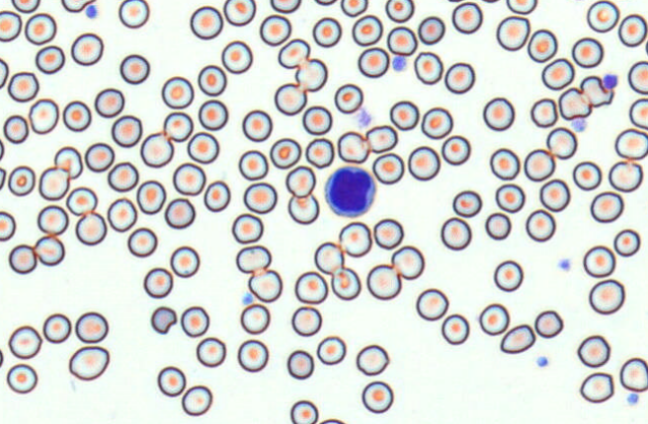LYM: (325, 163, 380, 218)
PLT: (391, 54, 409, 74), (571, 116, 589, 132), (603, 72, 619, 88), (85, 5, 101, 20), (627, 392, 641, 406), (559, 258, 572, 273), (537, 355, 550, 368)
RBC: (68, 345, 109, 381), (366, 263, 401, 300), (588, 279, 625, 314), (338, 221, 372, 257), (496, 15, 530, 50), (294, 270, 328, 304), (8, 325, 42, 359), (189, 5, 223, 39), (247, 269, 282, 302), (608, 159, 643, 192), (140, 132, 173, 167), (407, 145, 440, 180), (391, 245, 424, 279), (482, 96, 514, 131), (28, 98, 59, 134), (415, 288, 448, 321), (541, 57, 574, 90), (172, 162, 205, 195), (161, 76, 194, 109), (420, 106, 453, 139), (70, 32, 103, 65), (614, 127, 647, 160), (577, 334, 610, 367), (243, 181, 277, 213), (295, 57, 327, 91), (75, 211, 107, 245), (74, 311, 108, 343), (590, 191, 624, 223), (106, 197, 137, 232), (579, 372, 614, 403), (274, 82, 306, 115), (337, 130, 369, 163), (361, 380, 393, 413), (24, 12, 56, 45), (523, 148, 555, 181), (586, 0, 619, 32), (38, 166, 69, 200), (355, 344, 389, 375), (330, 266, 361, 300), (539, 178, 570, 212), (440, 216, 471, 250), (136, 179, 166, 214), (235, 244, 271, 273), (583, 245, 615, 277), (372, 152, 404, 184), (259, 14, 291, 46), (187, 131, 219, 163), (269, 137, 301, 169), (571, 36, 603, 68), (221, 40, 252, 73), (489, 147, 520, 180), (111, 114, 142, 147), (451, 1, 482, 34), (546, 126, 577, 159), (237, 339, 268, 372), (525, 208, 555, 242), (617, 13, 647, 47), (527, 28, 557, 62), (181, 384, 212, 416), (7, 71, 39, 102), (164, 197, 195, 229), (36, 204, 68, 235), (357, 47, 389, 78), (444, 62, 475, 94), (478, 303, 509, 335), (351, 14, 382, 46), (313, 241, 343, 274), (277, 38, 310, 68), (413, 51, 443, 84), (53, 145, 82, 179), (619, 357, 647, 392), (195, 336, 226, 367), (107, 161, 138, 192), (287, 194, 319, 224), (285, 165, 315, 197), (65, 186, 97, 216), (34, 234, 64, 266), (169, 245, 199, 277), (231, 213, 263, 243), (493, 259, 523, 291), (242, 109, 272, 141), (163, 111, 193, 142), (6, 363, 37, 393), (240, 303, 270, 334), (143, 267, 173, 298), (291, 305, 321, 336), (373, 218, 403, 249), (238, 149, 268, 180), (198, 99, 228, 130), (119, 53, 149, 84), (365, 124, 397, 153), (180, 305, 209, 337), (197, 64, 226, 96), (84, 142, 114, 172), (495, 183, 525, 213), (94, 87, 124, 117), (316, 335, 346, 365), (302, 105, 332, 135), (127, 227, 157, 257), (572, 160, 602, 190), (389, 100, 419, 130), (157, 365, 186, 396), (305, 137, 334, 168), (62, 100, 91, 131), (441, 134, 470, 165), (42, 312, 71, 343), (386, 26, 417, 55), (312, 16, 341, 47), (441, 313, 469, 345), (35, 45, 65, 74), (334, 83, 363, 113), (8, 243, 36, 274), (7, 165, 35, 196), (118, 0, 149, 28), (203, 180, 230, 212), (534, 309, 563, 338), (530, 97, 558, 127), (286, 349, 314, 379), (452, 189, 482, 217), (417, 15, 445, 45), (223, 0, 255, 26), (613, 228, 640, 257), (484, 212, 511, 240), (3, 114, 28, 143), (0, 10, 22, 42), (289, 399, 318, 423), (627, 60, 647, 94), (384, 0, 414, 22), (629, 97, 647, 129), (0, 210, 16, 241), (340, 0, 367, 17), (506, 0, 537, 14), (270, 0, 301, 13), (61, 0, 94, 12), (11, 0, 40, 13), (0, 57, 8, 88), (0, 166, 6, 190), (318, 418, 346, 423), (314, 0, 337, 6), (0, 138, 4, 160), (0, 348, 4, 368), (481, 0, 500, 3), (645, 38, 648, 56)
Schistocyte: (495, 326, 536, 353), (582, 76, 616, 108), (558, 89, 591, 120), (151, 306, 178, 335)
